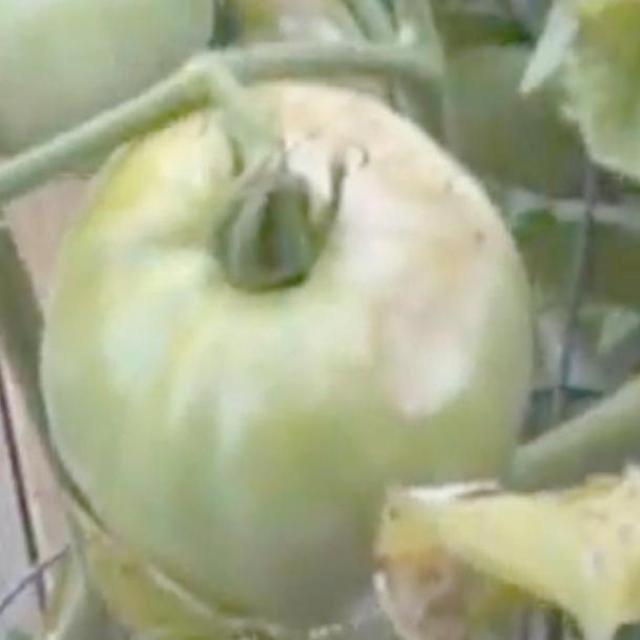Sunscald Fruit: (192, 60, 341, 301)
